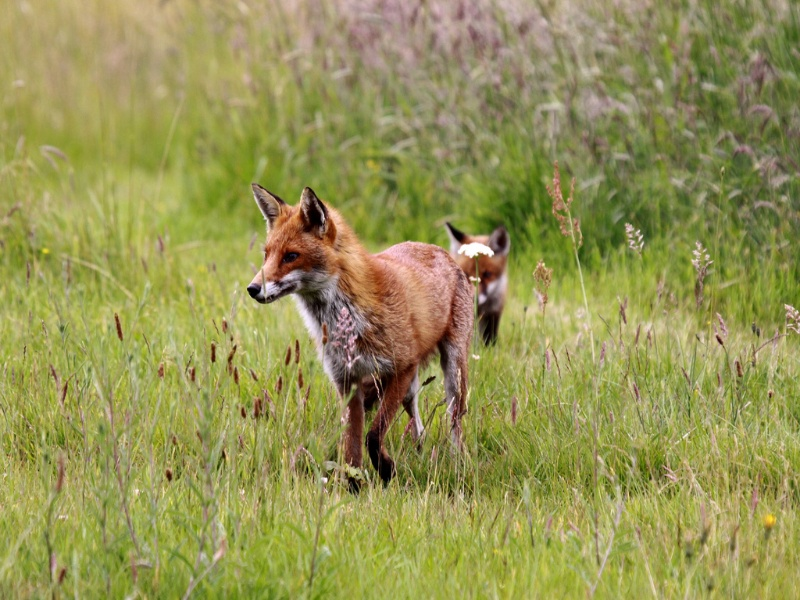fox: (250, 181, 470, 491), (442, 216, 509, 350)
